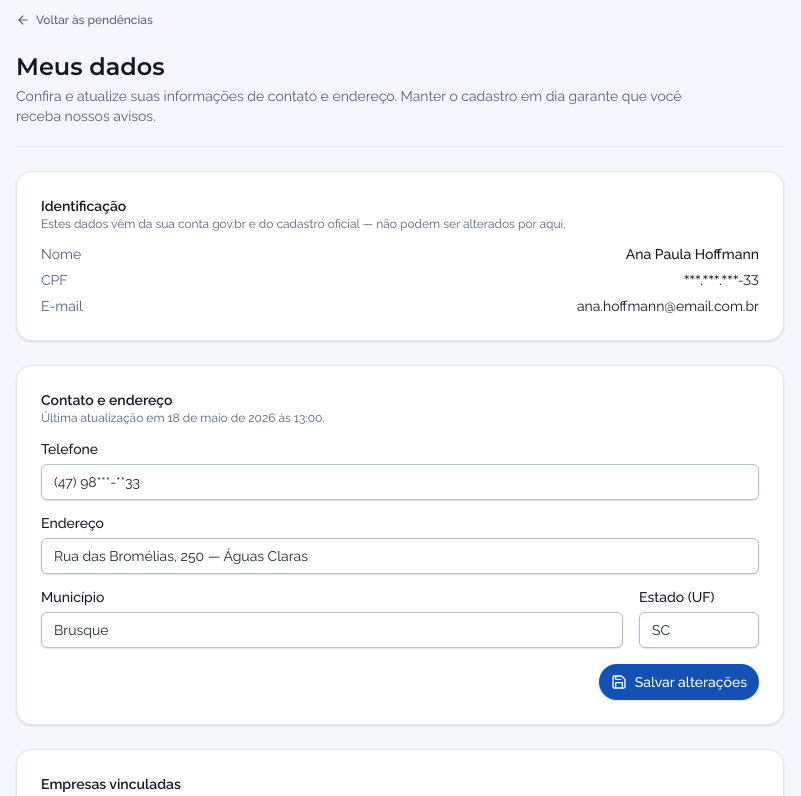
CitizenDadosPage (T27+) › valida telefone curto com mensagem em linguagem clara
Replace the text in the field labelled "Telefone" with "999" at (400, 482), box [41, 464, 759, 500]
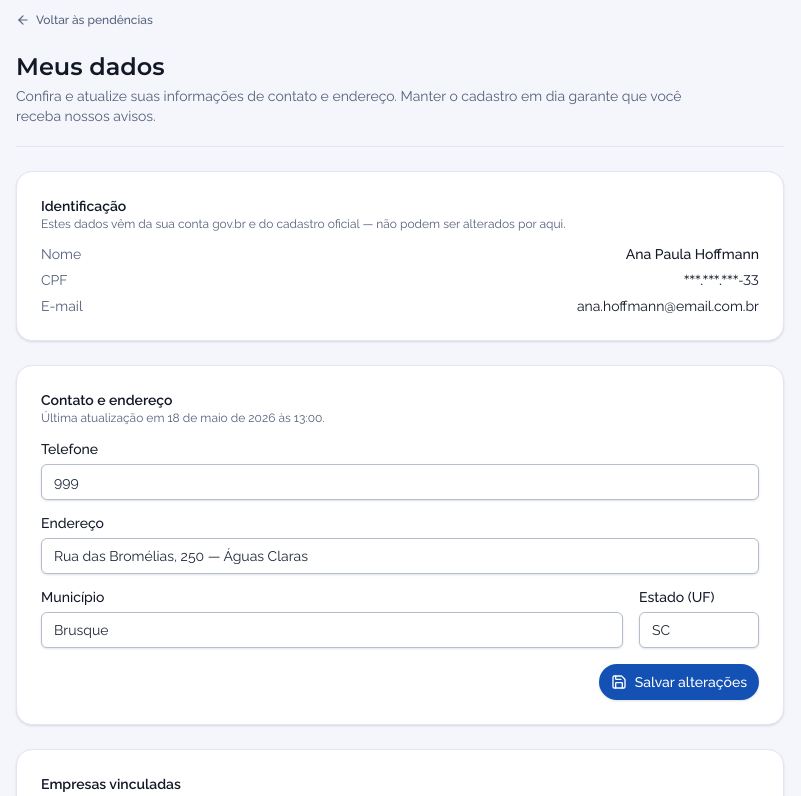
Click the button "Salvar alterações".
click(679, 682)  # box [599, 664, 759, 700]
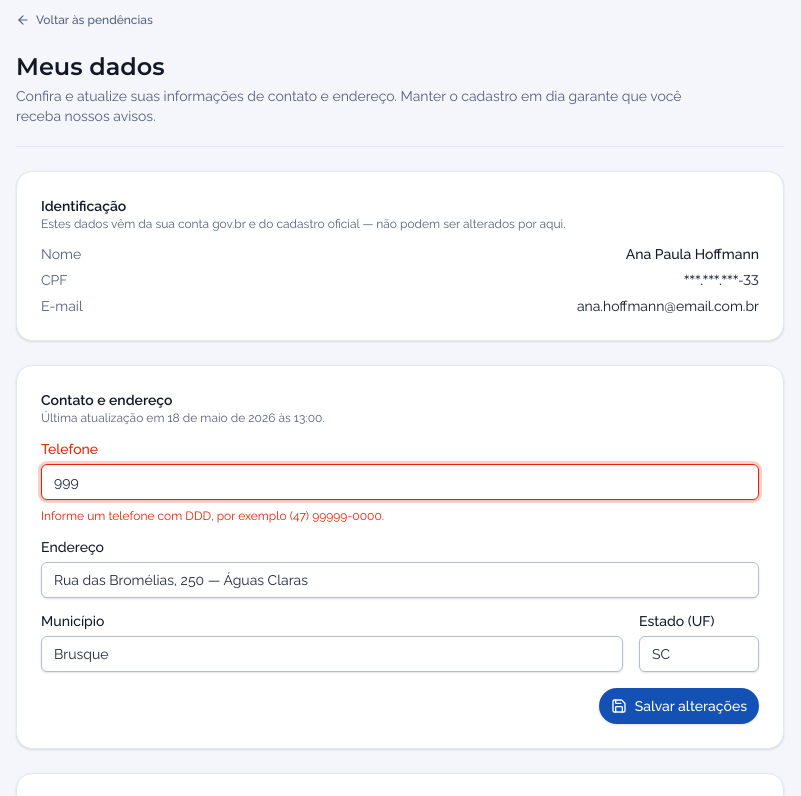
Expected: the text "Informe um telefone com DDD, por exemplo (47) 99999-0000." is shown, [41, 509, 384, 523]
